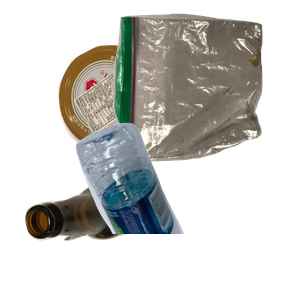glass: (23, 179, 183, 300)
metal: (56, 43, 211, 187)
plastic: (73, 120, 300, 300)
trash: (110, 11, 300, 167)
